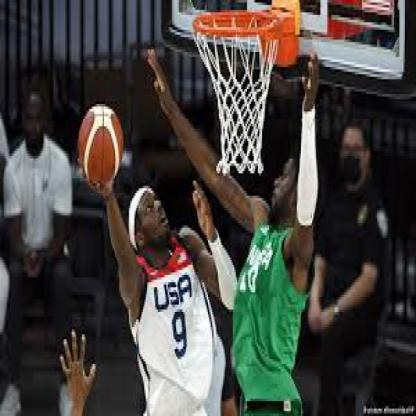basketball: (78, 106, 122, 186)
rim: (193, 10, 283, 42)
